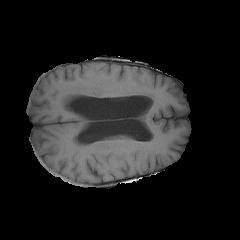glioma: (60, 77, 157, 104)
